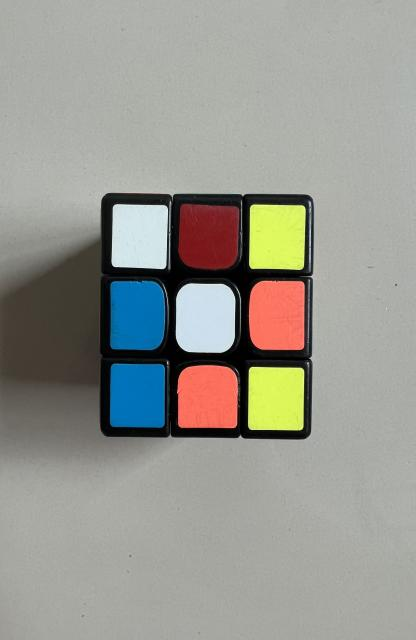Blue: (110, 281, 166, 350), (109, 364, 165, 428)
Orange: (177, 365, 238, 429), (249, 281, 304, 350)
Red: (179, 204, 239, 270)
White: (176, 284, 235, 352), (112, 204, 168, 269)
Yellow: (249, 205, 306, 270), (248, 366, 304, 431)
